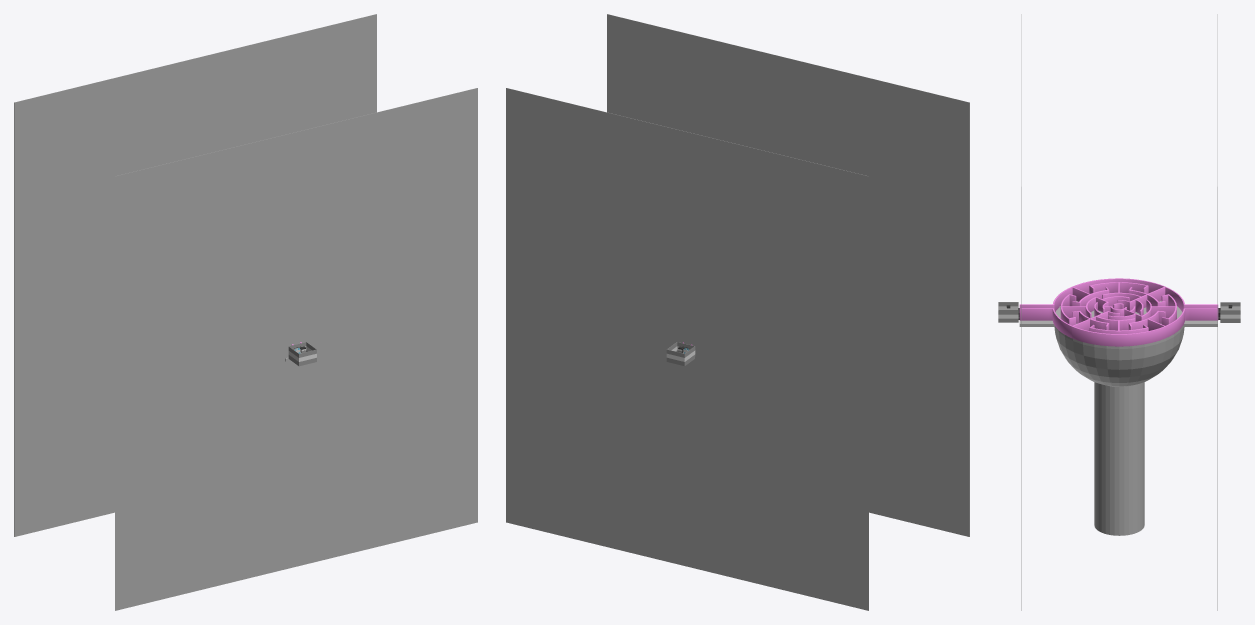
The model's file is Segap 01 23 Maze 3.fbx.
3 views of the same model, side by side, from view 1: azimuth 30°, elevation 25°; view 2: azimuth 150°, elevation 25°; view 3: azimuth 270°, elevation 25° (orthographic). The views are drawn at different scales.
Parts seen in each view (by area): view 1: Cube.120, Cube.127; view 2: Cube.127, Cube.120; view 3: Sphere.013, Plane.042, Cube.120, Cube.127, Plane.045, Plane.047.
Part boxes in pixels (bbox=[...]): Cube.120: bbox=[115, 88, 477, 610]; Cube.127: bbox=[14, 14, 376, 536]; Cube.127: bbox=[506, 88, 868, 610]; Cube.120: bbox=[607, 14, 969, 536]; Sphere.013: bbox=[1019, 300, 1217, 535]; Plane.042: bbox=[1019, 278, 1218, 346]; Cube.120: bbox=[1021, 14, 1021, 610]; Cube.127: bbox=[1217, 14, 1217, 610]; Plane.045: bbox=[998, 302, 1018, 322]; Plane.047: bbox=[1220, 302, 1240, 322].
Size of the model in its own units: 12450 by 14426 by 7386.
